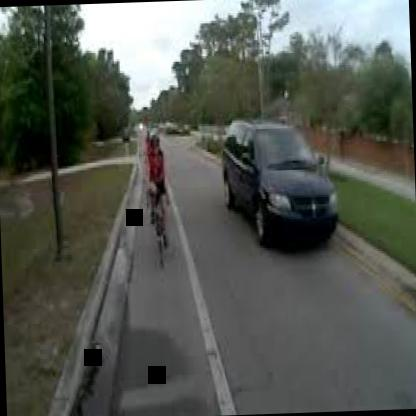car: (198, 104, 346, 262)
